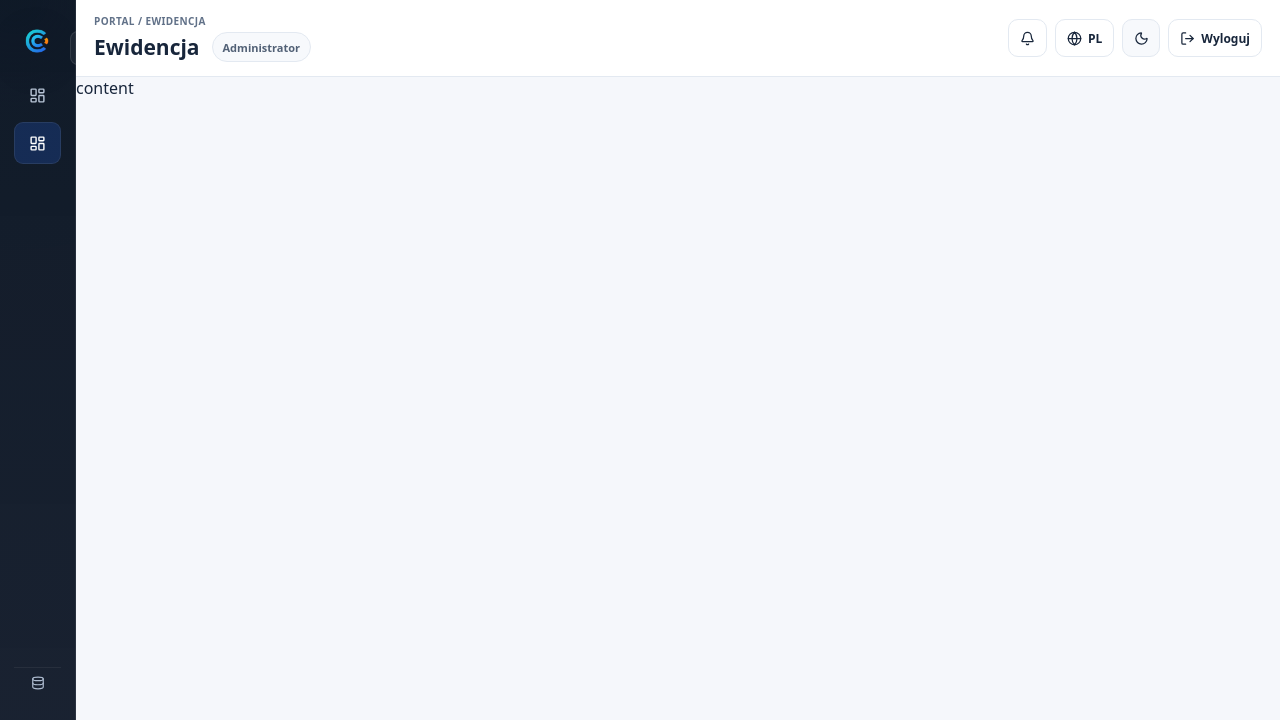
Test case: AppShell › disables marking all notifications as read when the popover is empty
Click the 1st button with class "topbar-icon-btn" at (1028, 38), box [1008, 19, 1047, 57]
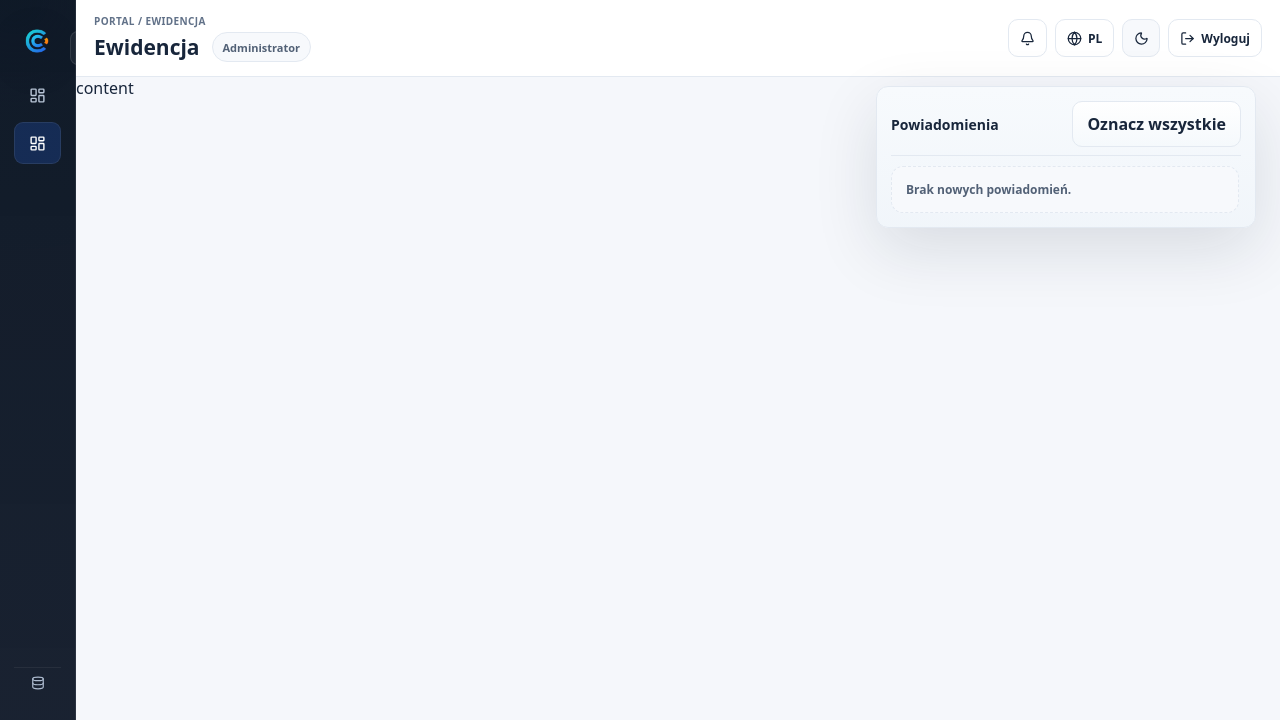
Expected: the button "Oznacz wszystkie" is disabled, [1072, 101, 1241, 147]
